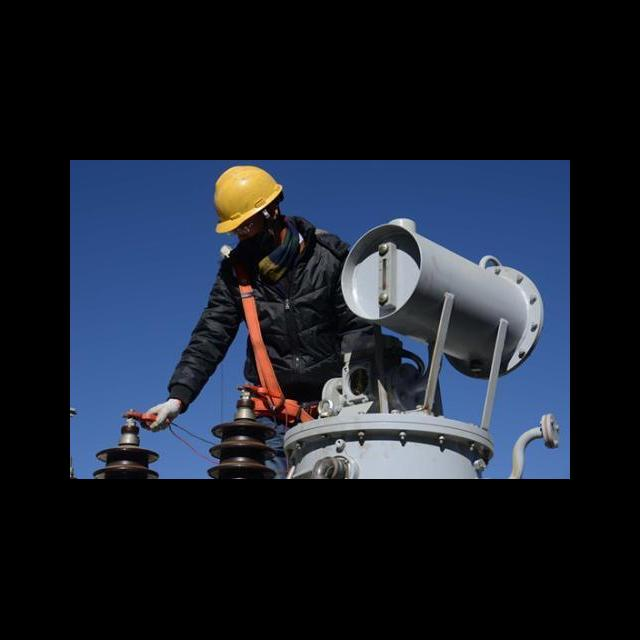Gloves: (144, 398, 181, 432)
Hardhat: (212, 165, 284, 232)
Mask: (245, 226, 279, 259)
NO-Safety Vest: (251, 232, 340, 396)
Person: (142, 163, 380, 470)
